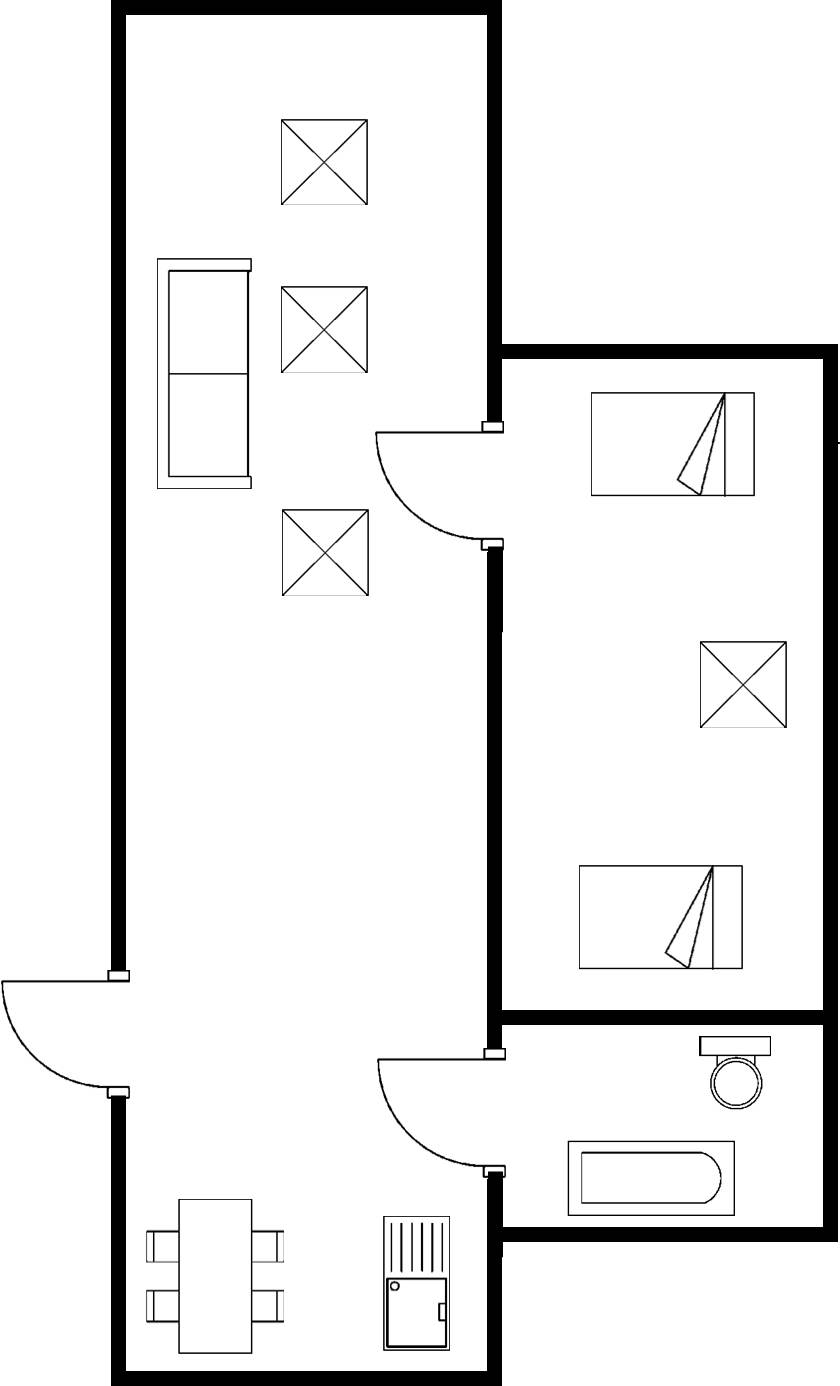bed: (572, 854, 756, 977), (584, 384, 761, 506)
coffee_table: (273, 500, 379, 609), (692, 631, 799, 738), (273, 113, 376, 214), (276, 280, 379, 381)
dining_table: (142, 1192, 292, 1361)
large_sink: (692, 1030, 779, 1117)
large_sofa: (147, 249, 260, 498)
sink: (372, 1207, 462, 1359)
tub: (558, 1131, 742, 1219)
